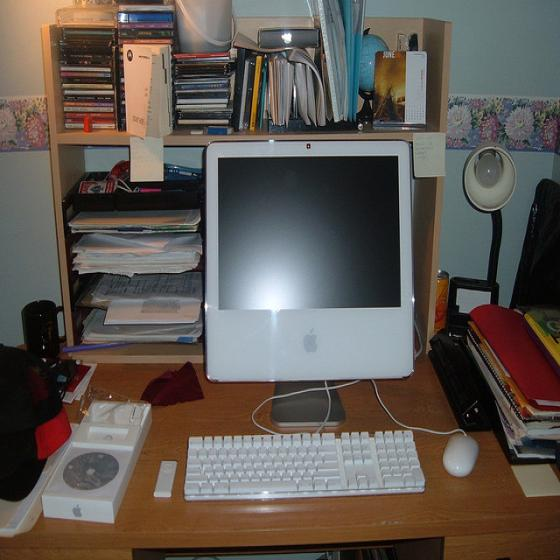book: (171, 47, 234, 125), (521, 305, 559, 381), (250, 55, 263, 132), (65, 118, 116, 131), (63, 94, 114, 102), (65, 112, 116, 120), (63, 107, 115, 114), (60, 66, 111, 73), (60, 72, 113, 78), (59, 58, 112, 64), (62, 84, 113, 90), (64, 90, 115, 95), (72, 78, 114, 84)
cup: (21, 299, 66, 359)
keyboard: (186, 430, 428, 500)
mouse: (441, 431, 481, 479)
tv: (205, 142, 413, 384)
